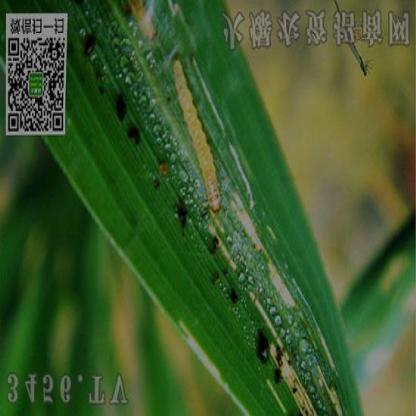leaf-folder: (164, 43, 228, 222)
